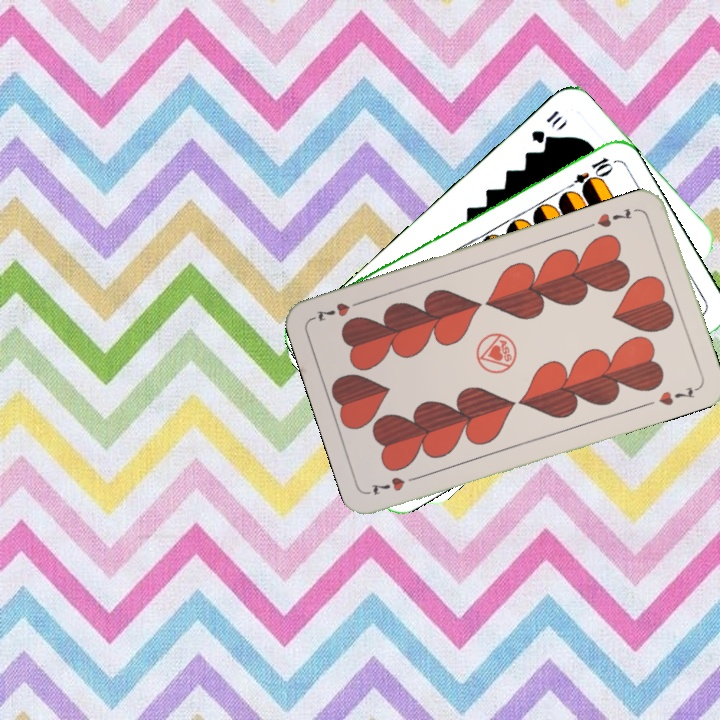E10: (560, 153, 615, 194)
G10: (527, 106, 566, 147)
H7: (366, 471, 424, 498), (593, 204, 635, 230)
